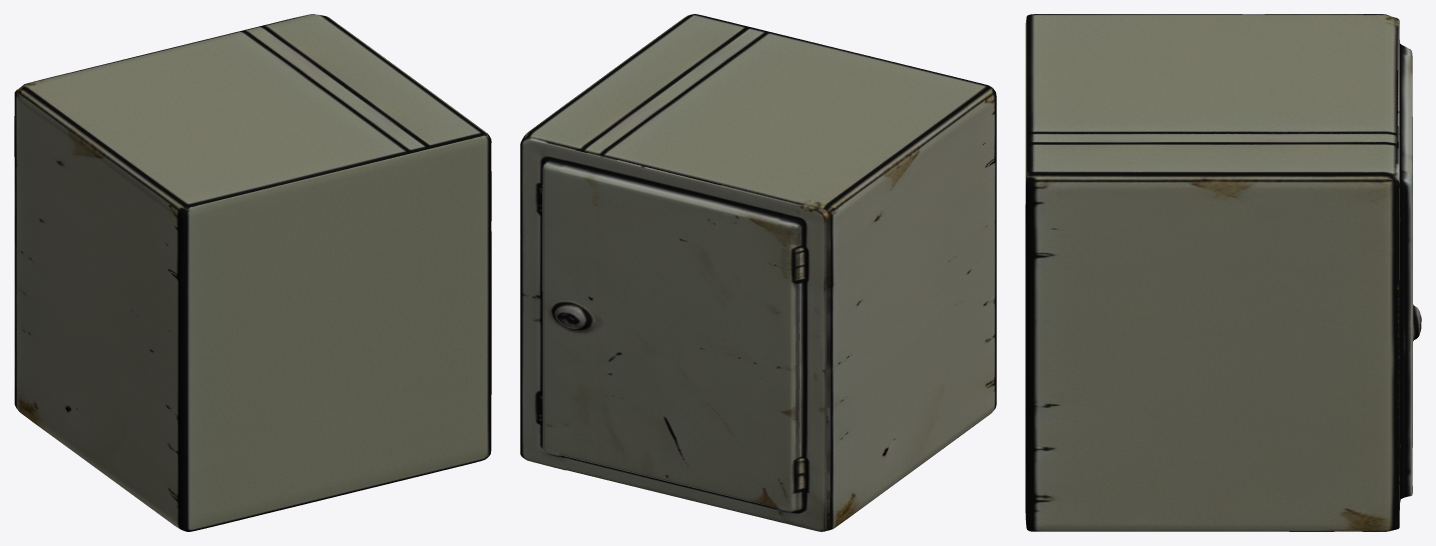
Rendered from street-cabinet.glb.
The picture shows the model from 3 angles, left to right: view 1: azimuth 30°, elevation 25°; view 2: azimuth 150°, elevation 25°; view 3: azimuth 270°, elevation 25°; orthographic projection. The views are drawn at different scales.
Parts seen in each view (by area): view 1: tmpf5bwqtfs.ply; view 2: tmpf5bwqtfs.ply; view 3: tmpf5bwqtfs.ply.
Part boxes in pixels (bbox=[...]): tmpf5bwqtfs.ply: bbox=[14, 14, 491, 531]; tmpf5bwqtfs.ply: bbox=[520, 14, 996, 531]; tmpf5bwqtfs.ply: bbox=[1025, 14, 1421, 531].
Bounding box in the file's own units: 1 × 1 × 1.
Materials: 1 (1 with a texture image).
